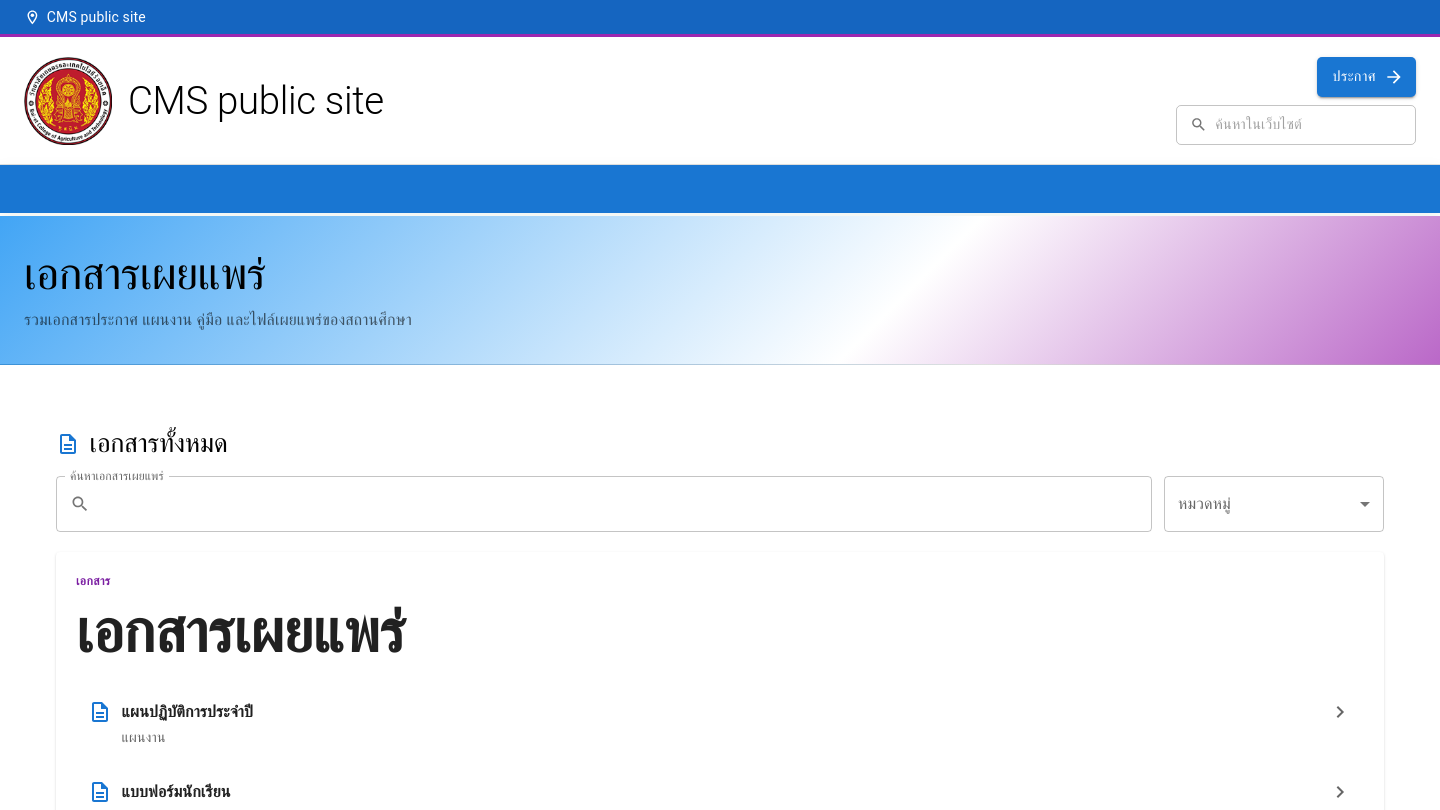
Test case: public data-driven pages › filters the public document archive by search text
The image size is (1440, 810).
expect the dropdown named "หมวดหมู่" is shown: met, box x1=1164 y1=476 x2=1384 y2=532
Type "student-form" into the search field labelled "ค้นหาเอกสารเผยแพร่" at (625, 504), box x1=98 y1=476 x2=1152 y2=532
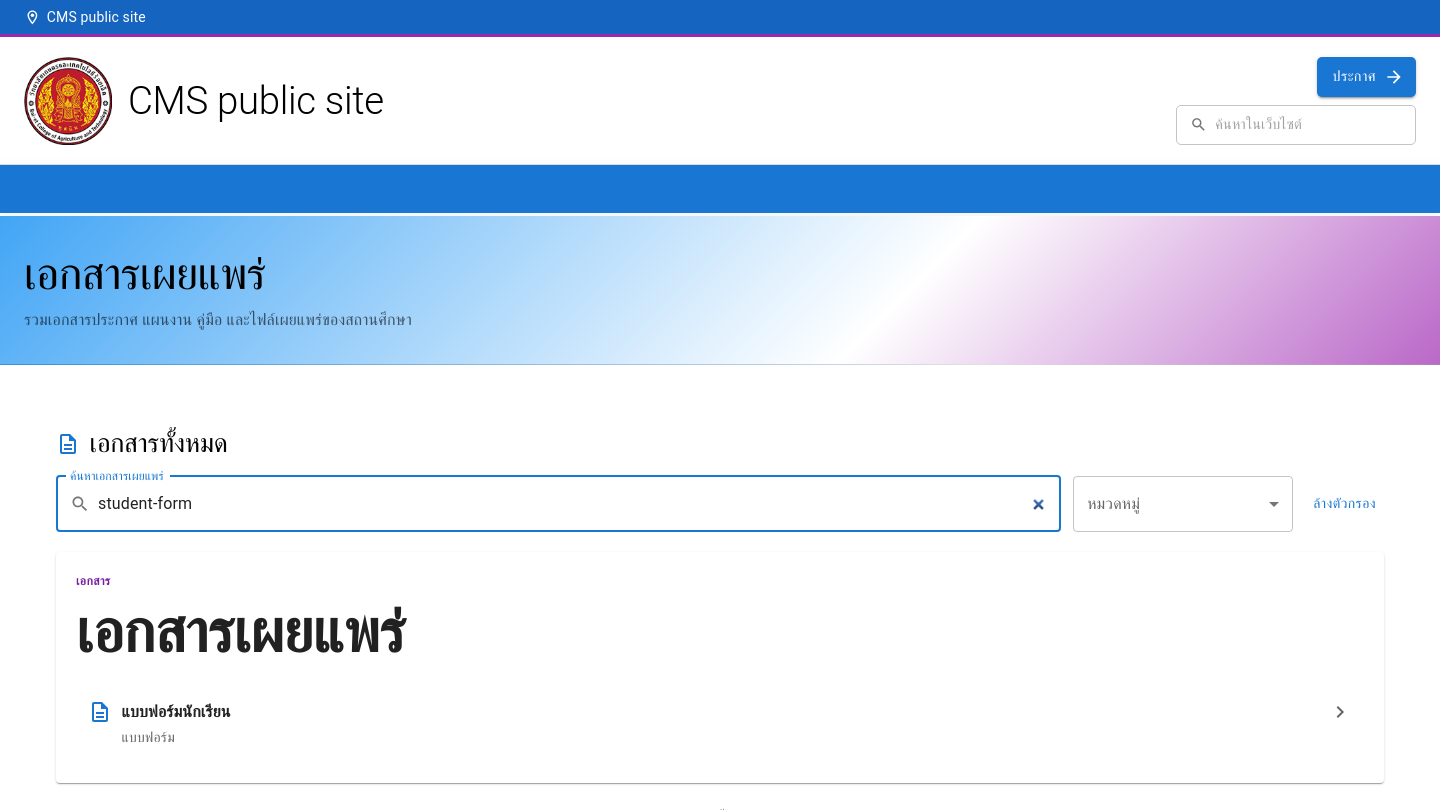
expect the text "แบบฟอร์มนักเรียน" is shown: met, box x1=122 y1=702 x2=231 y2=721
expect the link "แผนปฏิบัติการประจำปี" is gone: met
